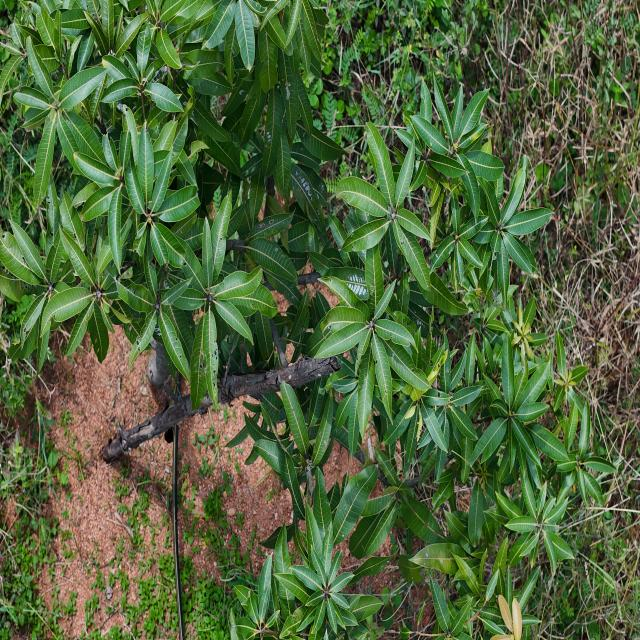mangoTree: (0, 0, 620, 640)
